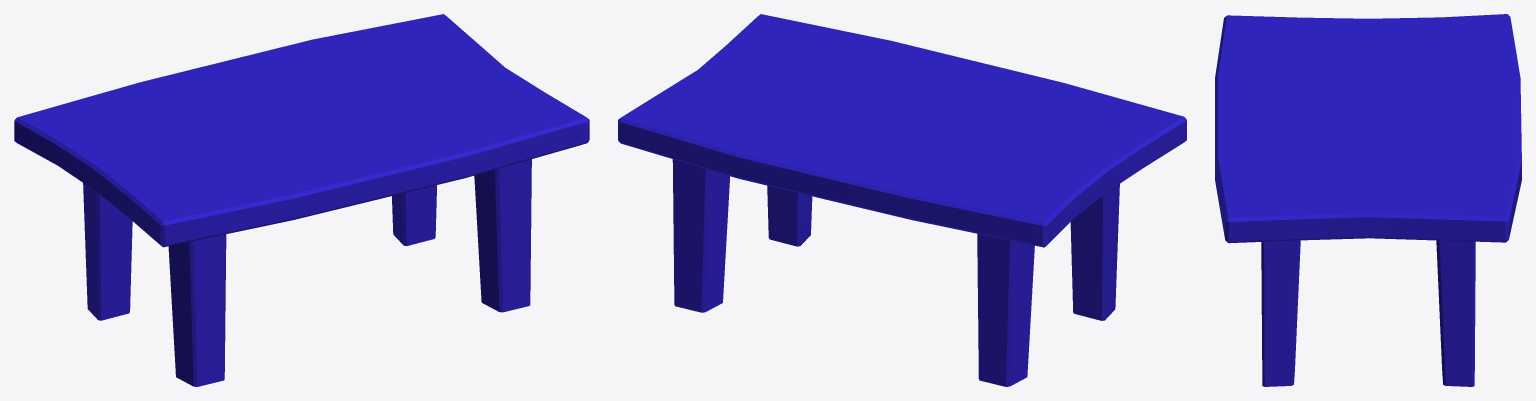
The model's file is SM_ FE_Props_Table01.fbx.
The picture shows the model from 3 angles, left to right: view 1: azimuth 30°, elevation 25°; view 2: azimuth 150°, elevation 25°; view 3: azimuth 270°, elevation 25°; orthographic projection. The views are drawn at different scales.
Parts seen in each view (by area): view 1: SM_ FE_Props_Table01; view 2: SM_ FE_Props_Table01; view 3: SM_ FE_Props_Table01.
Boxes of the visible parts, x1,y1,x2,y2 form: SM_ FE_Props_Table01: [14, 14, 589, 386]; SM_ FE_Props_Table01: [618, 14, 1186, 386]; SM_ FE_Props_Table01: [1215, 14, 1521, 386].
Size of the model in its own units: 66 by 27.89 by 41.45.
